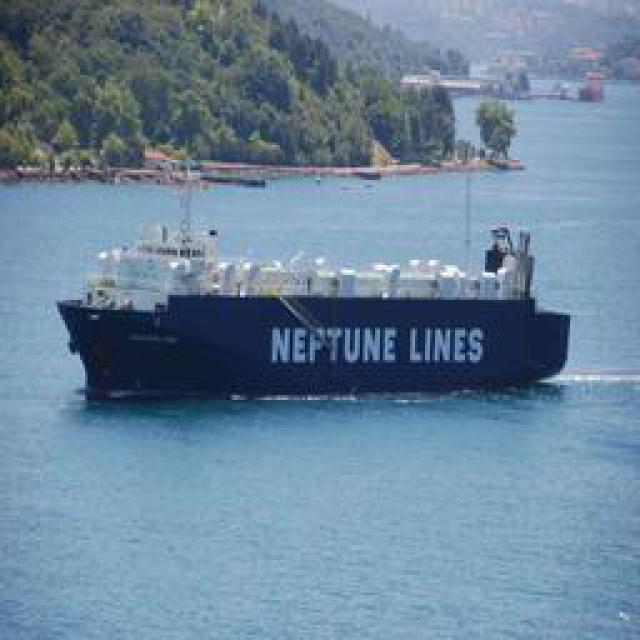Ship: (55, 140, 583, 403)
